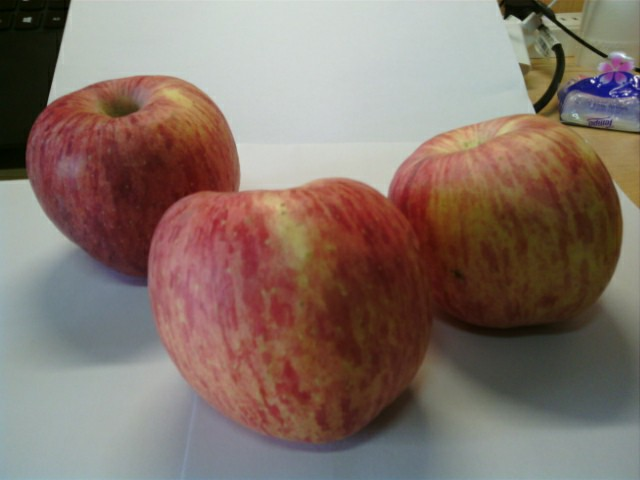normal_apple: (148, 179, 431, 448), (388, 114, 626, 332), (26, 72, 244, 279)
